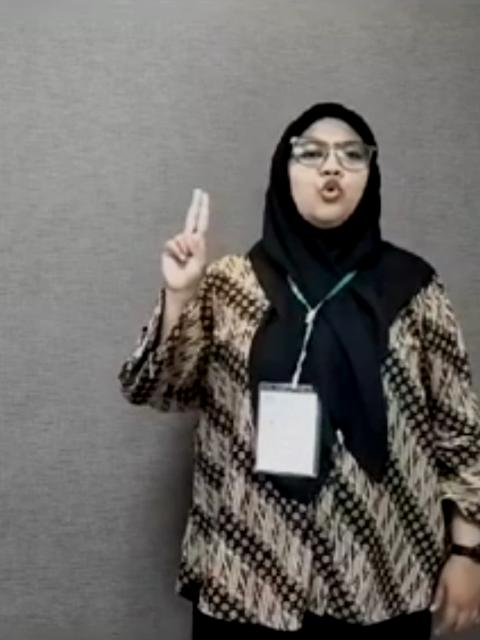U: (158, 185, 212, 288)
